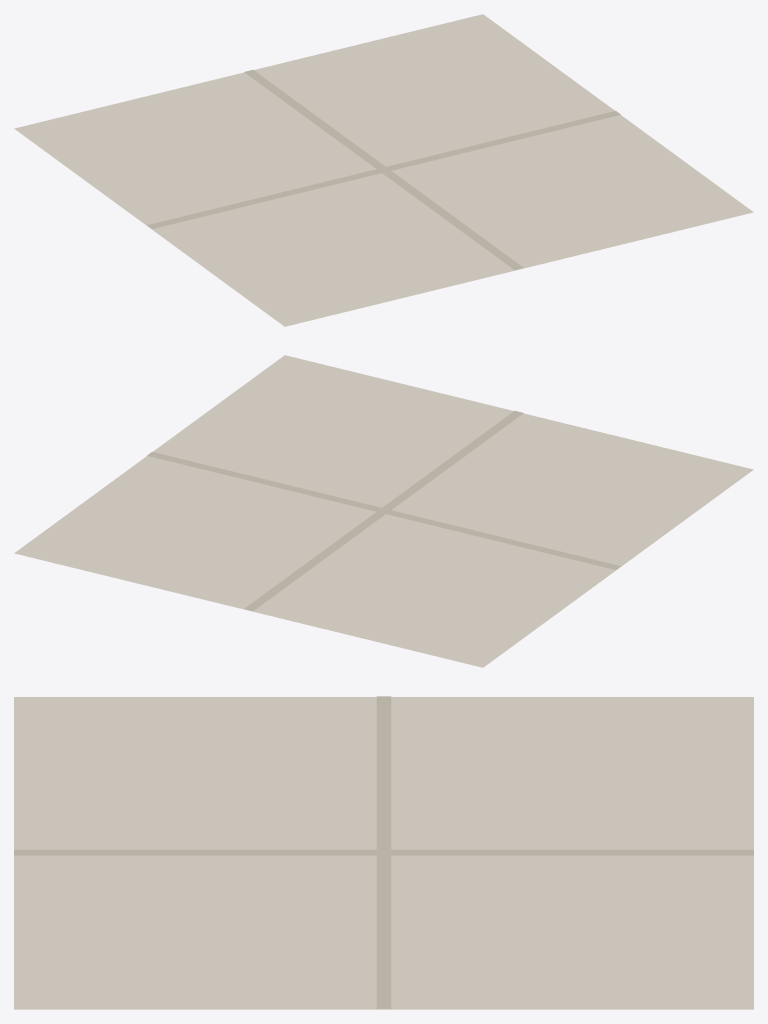
Rendered from pad.glb.
The picture shows the model from 3 angles, top to bottom: view 1: azimuth 30°, elevation 25°; view 2: azimuth 150°, elevation 25°; view 3: azimuth 270°, elevation 25°; orthographic projection. The views are drawn at different scales.
Visible parts, largest first — view 1: mesh_pad, mesh_seam; view 2: mesh_pad, mesh_seam; view 3: mesh_pad, mesh_seam.
Boxes of the visible parts, left/top/right/bottom form: mesh_pad: left=14, top=14, right=753, bottom=326; mesh_seam: left=147, top=70, right=620, bottom=269; mesh_pad: left=14, top=355, right=753, bottom=667; mesh_seam: left=147, top=411, right=620, bottom=610; mesh_pad: left=14, top=697, right=753, bottom=1009; mesh_seam: left=14, top=696, right=753, bottom=1008.
Size of the model in its own units: 1 by 0.00101 by 1.
